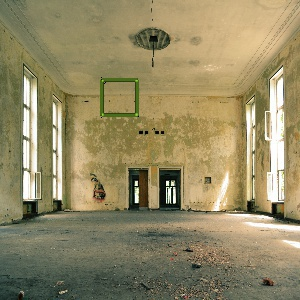square: (97, 75, 142, 120)
